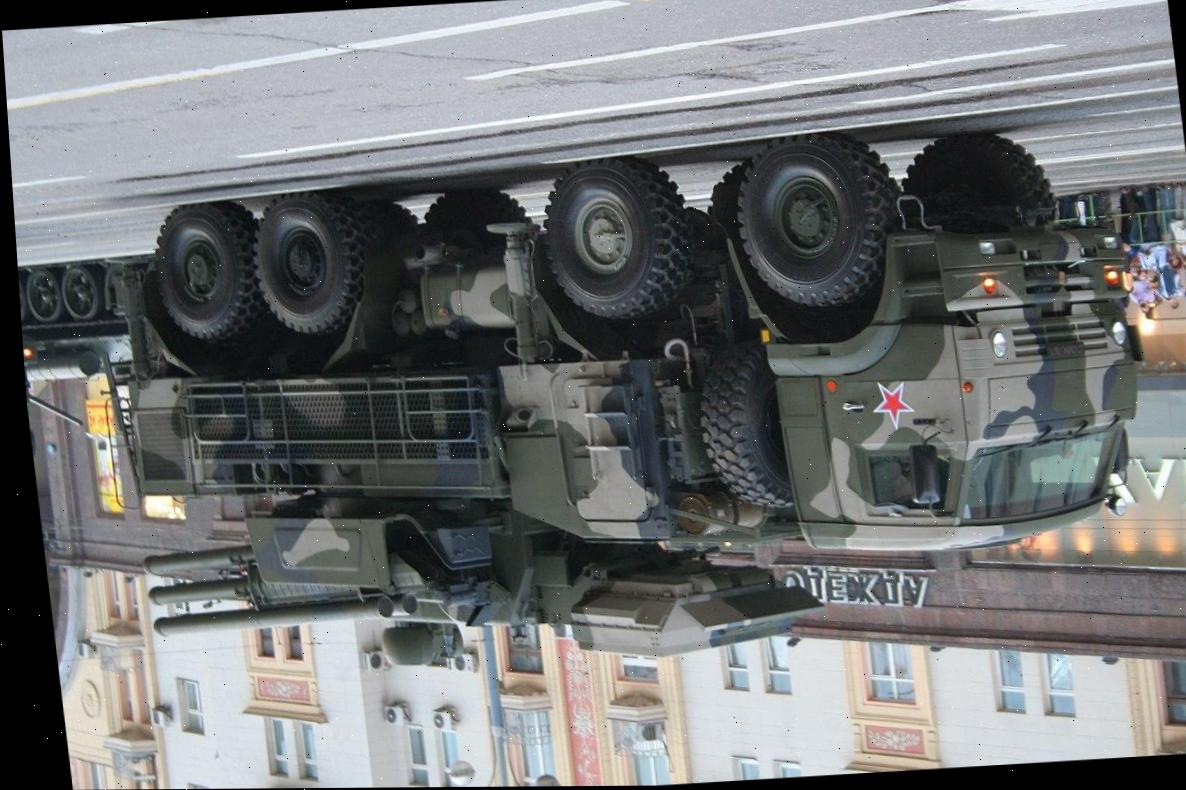tank: (16, 241, 160, 420)
truck: (75, 104, 1164, 703)
